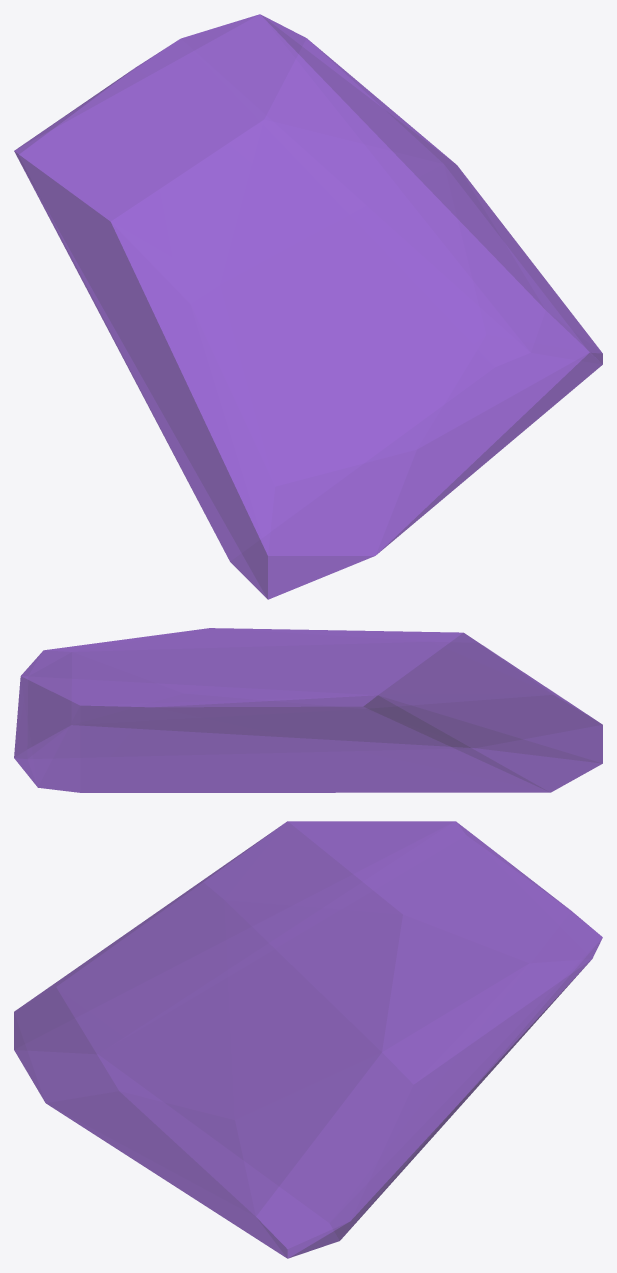
3 views of the same model, one above another, from view 1: azimuth 30°, elevation 25°; view 2: azimuth 150°, elevation 25°; view 3: azimuth 270°, elevation 25° (orthographic). The views are drawn at different scales.
Parts seen in each view (by area): view 1: Shape_IndexedFaceSet.022_Shape_IndexedFaceSet.5461; view 2: Shape_IndexedFaceSet.022_Shape_IndexedFaceSet.5461; view 3: Shape_IndexedFaceSet.022_Shape_IndexedFaceSet.5461.
Part boxes in pixels (bbox=[...]): Shape_IndexedFaceSet.022_Shape_IndexedFaceSet.5461: bbox=[14, 14, 602, 599]; Shape_IndexedFaceSet.022_Shape_IndexedFaceSet.5461: bbox=[14, 628, 602, 792]; Shape_IndexedFaceSet.022_Shape_IndexedFaceSet.5461: bbox=[14, 821, 602, 1258].
Size of the model in its own units: 0.0212 by 0.0108 by 0.0252.
